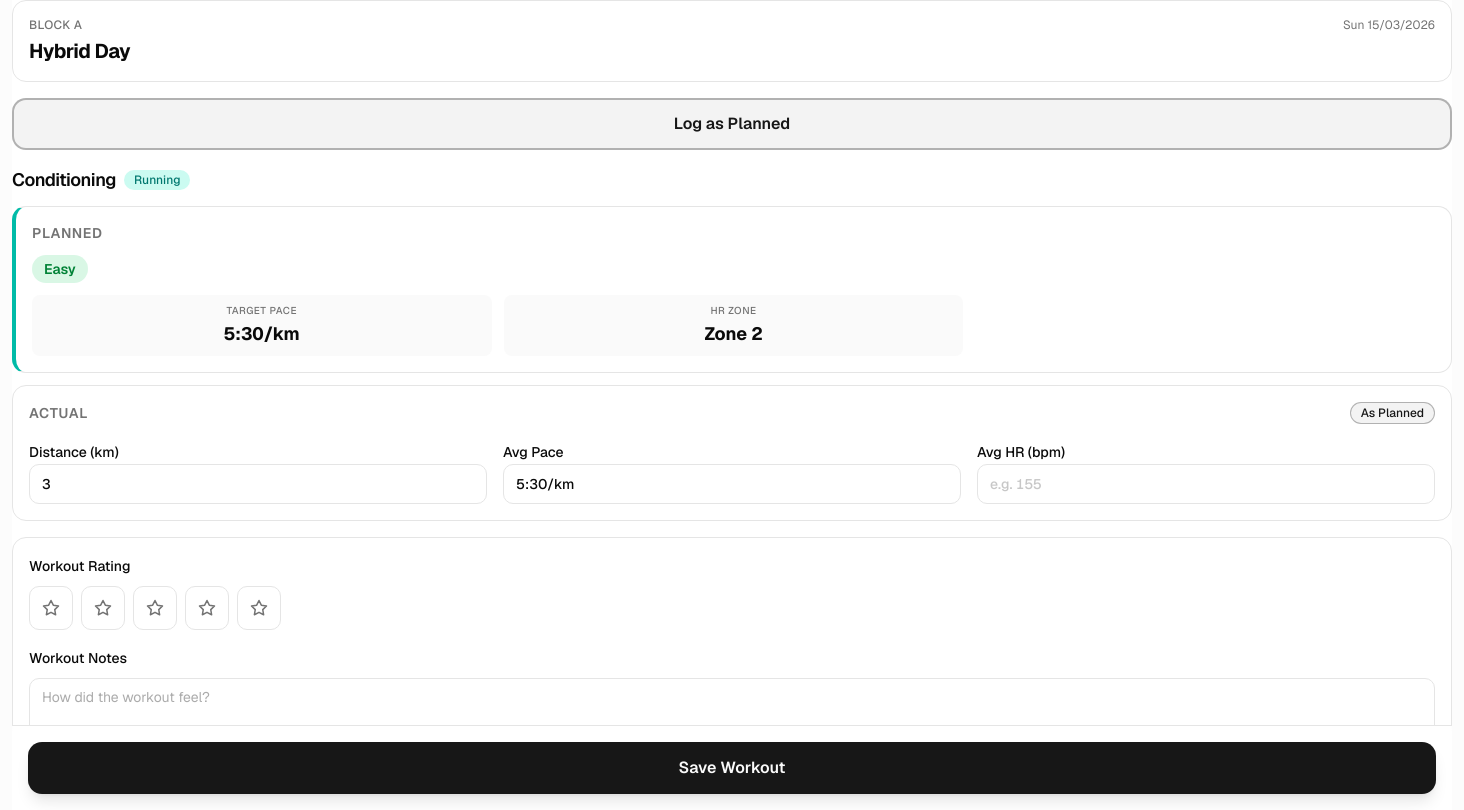
Per-section "As Planned" — mixed form running › AC25: fills running actual fields with planned values
The image size is (1464, 810).
// Modify distance
Clear the field with test id "actual-distance-0". click: (258,484)
box: [29, 464, 487, 504]
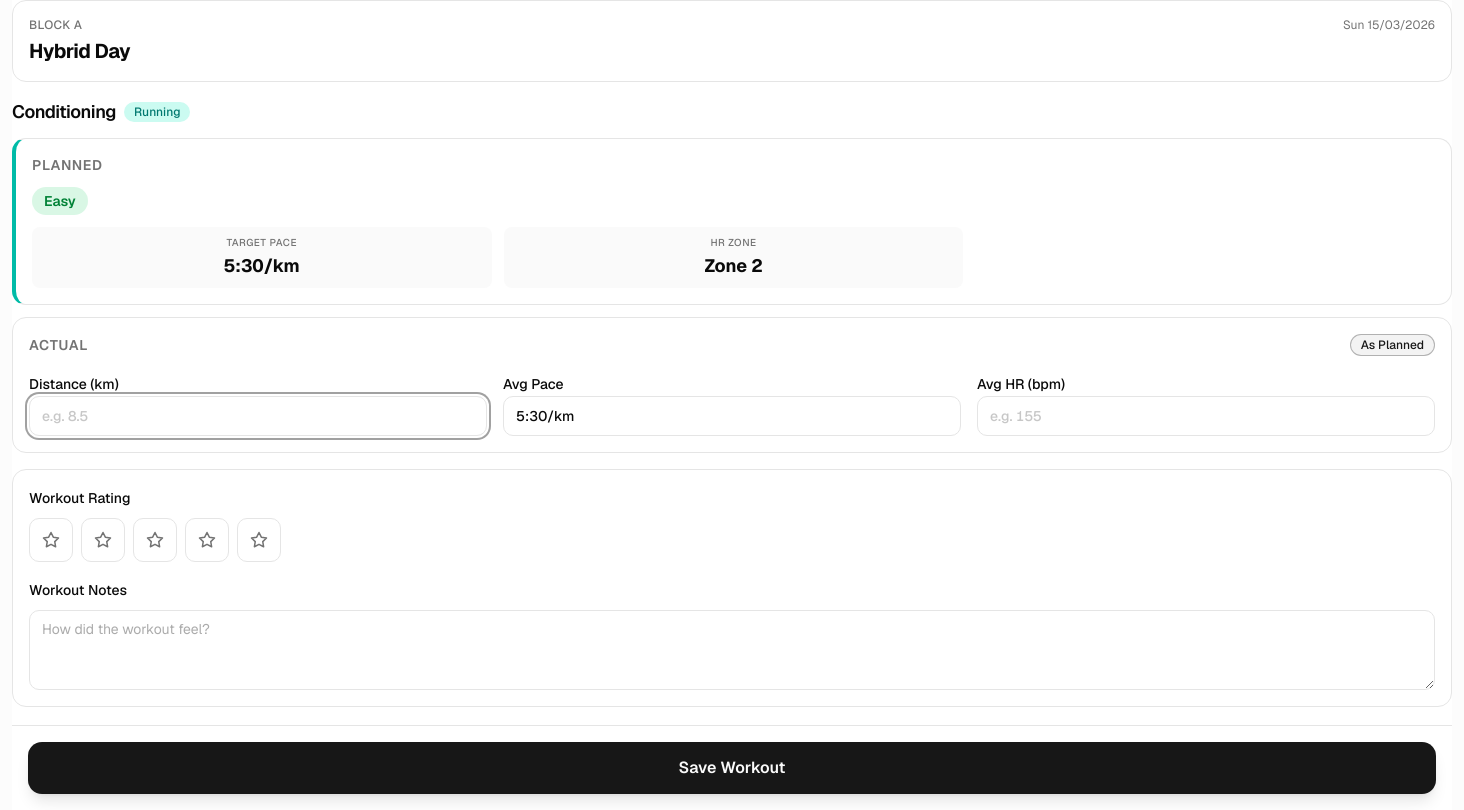
Type "10" into the field with test id "actual-distance-0". click: (258,416)
box: [29, 396, 487, 436]
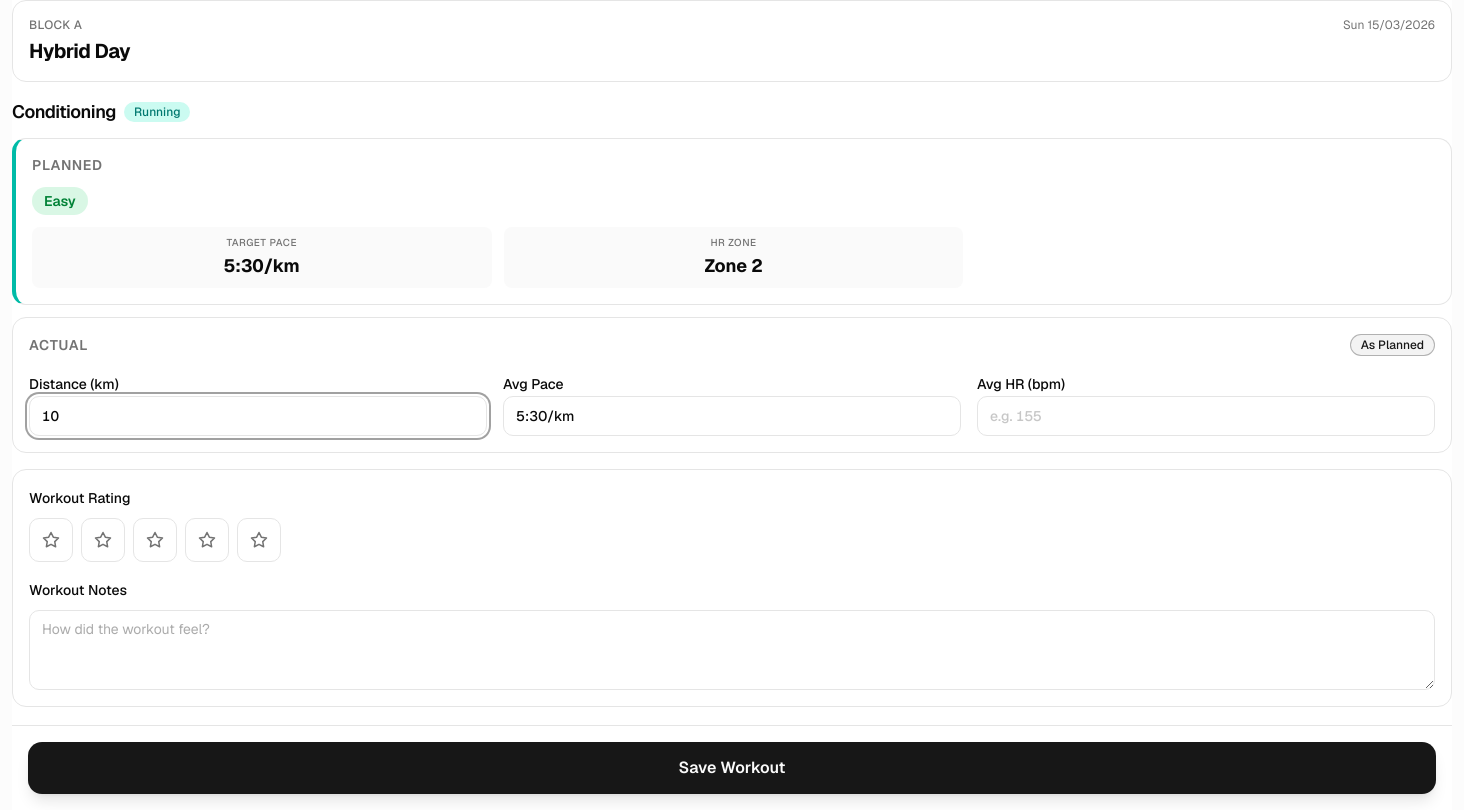
// Tap "As Planned"
Click the button with test id "as-planned-running-0". click: (1392,345)
box: [1350, 334, 1435, 356]
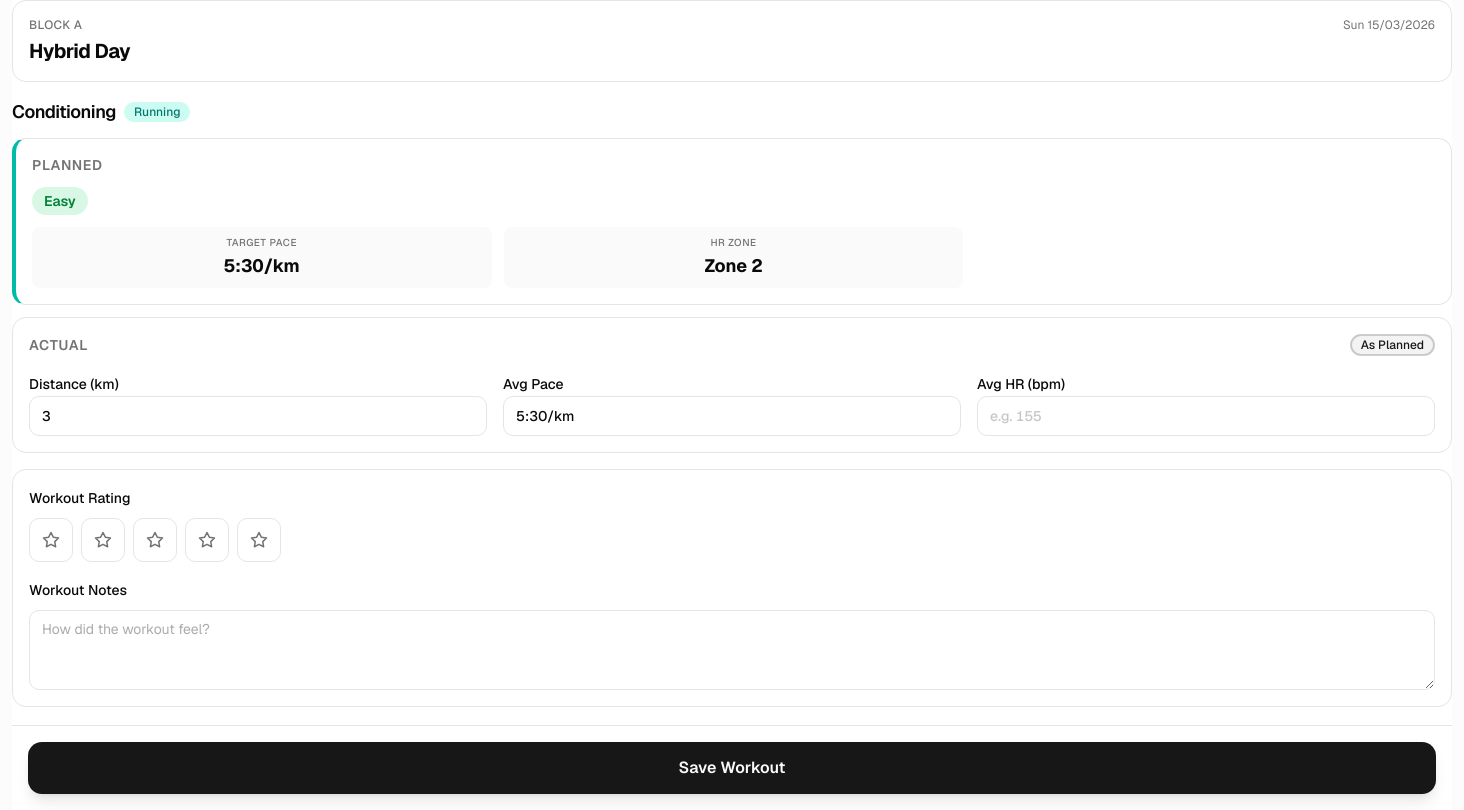
Check: the field with test id "actual-avg-pace-0" holds "5:30/km", box [503, 396, 961, 436]
Check: the field with test id "actual-distance-0" holds "3", box [29, 396, 487, 436]
